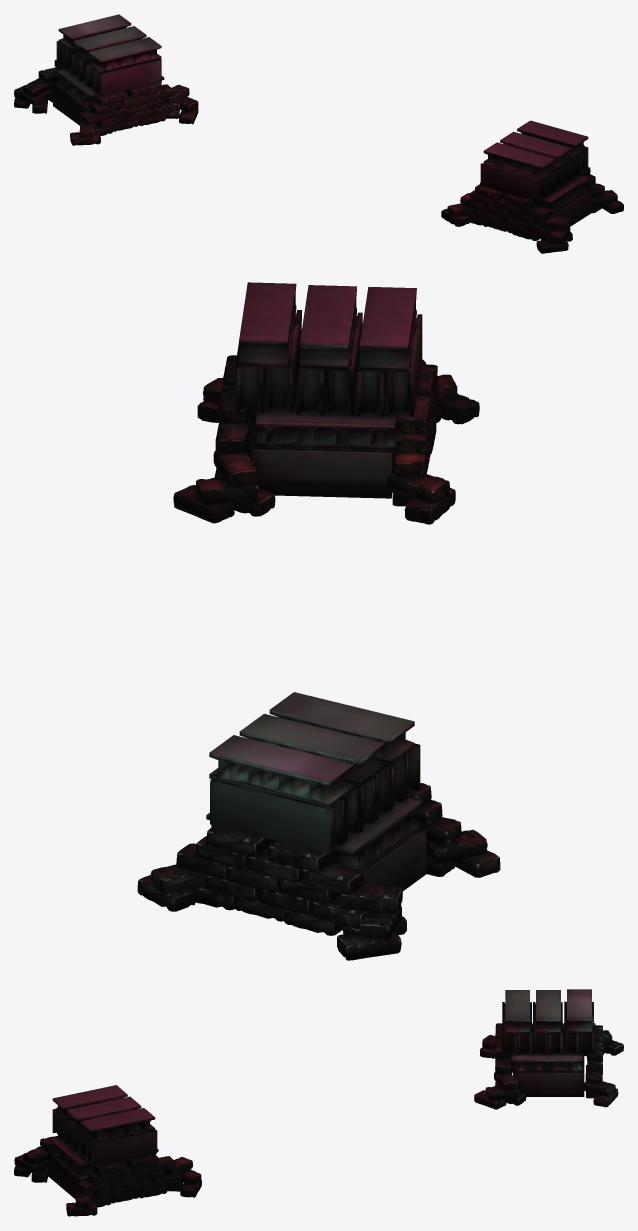
3 renders of one model, top to bottom at view 1: azimuth 30°, elevation 25°; view 2: azimuth 150°, elevation 25°; view 3: azimuth 270°, elevation 25°, orthographic. The views are drawn at different scales.
Visible parts, largest first — view 1: prop2; view 2: prop2; view 3: prop2.
Part boxes in pixels (<box>): prop2: <box>14,14,623,253</box>; prop2: <box>137,282,500,960</box>; prop2: <box>14,989,623,1216</box>.
Size of the model in its own units: 3.88 by 0.7825 by 5.71.
Materials: 1 (1 with a texture image).
